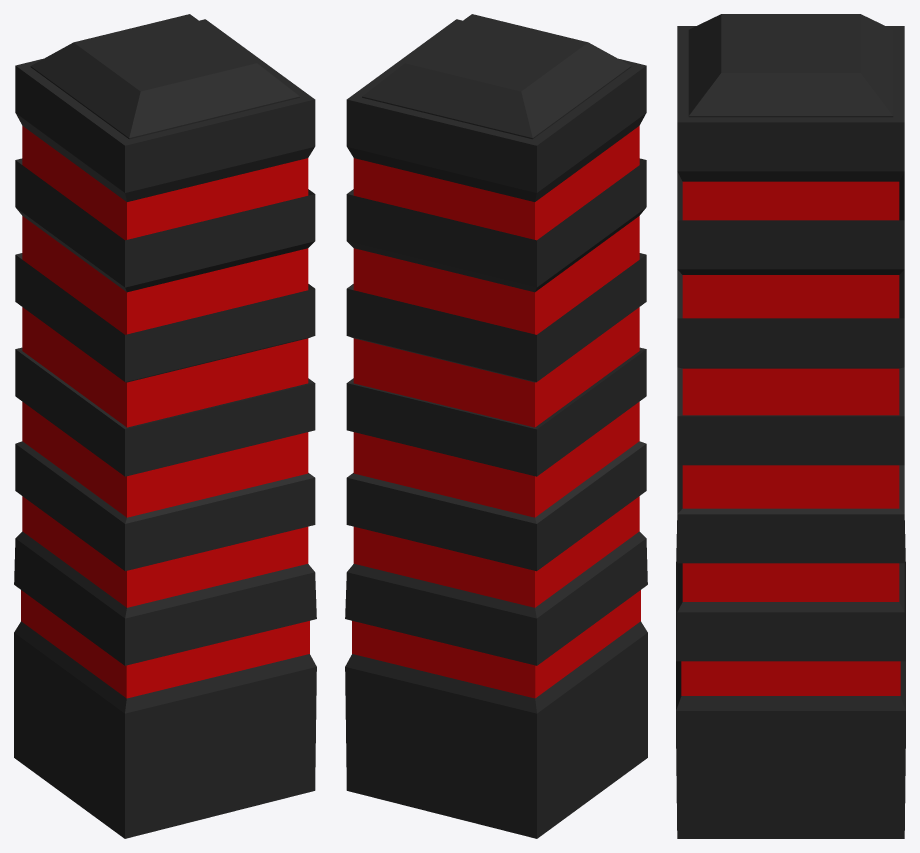
The model's file is Red Skyscraper.fbx.
3 renders of one model, left to right at view 1: azimuth 30°, elevation 25°; view 2: azimuth 150°, elevation 25°; view 3: azimuth 270°, elevation 25°, orthographic. The views are drawn at different scales.
Visible parts, largest first — view 1: Cube; view 2: Cube; view 3: Cube.
Part boxes in pixels (bbox=[...]): Cube: bbox=[14, 14, 316, 838]; Cube: bbox=[345, 14, 647, 838]; Cube: bbox=[676, 14, 905, 838].
Size of the model in its own units: 399 by 1433 by 399.
